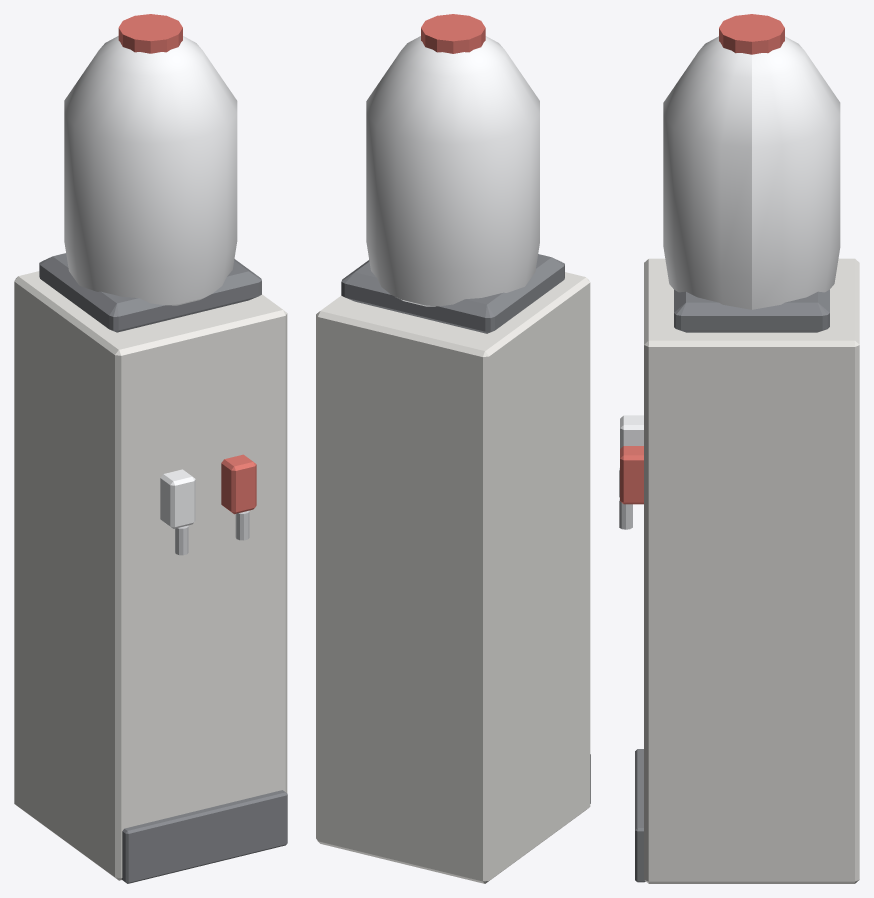
Rendered from water_cooler.glb.
3 views of the same model, side by side, from view 1: azimuth 30°, elevation 25°; view 2: azimuth 150°, elevation 25°; view 3: azimuth 270°, elevation 25° (orthographic). The views are drawn at different scales.
Visible parts, largest first — view 1: water-cooler; view 2: water-cooler; view 3: water-cooler.
Part boxes in pixels (box(x1,y1,x2,y2)): water-cooler: box(14, 14, 287, 883); water-cooler: box(316, 14, 590, 883); water-cooler: box(619, 14, 859, 883).
Size of the model in its own units: 0.34 by 1.5 by 0.4014.
